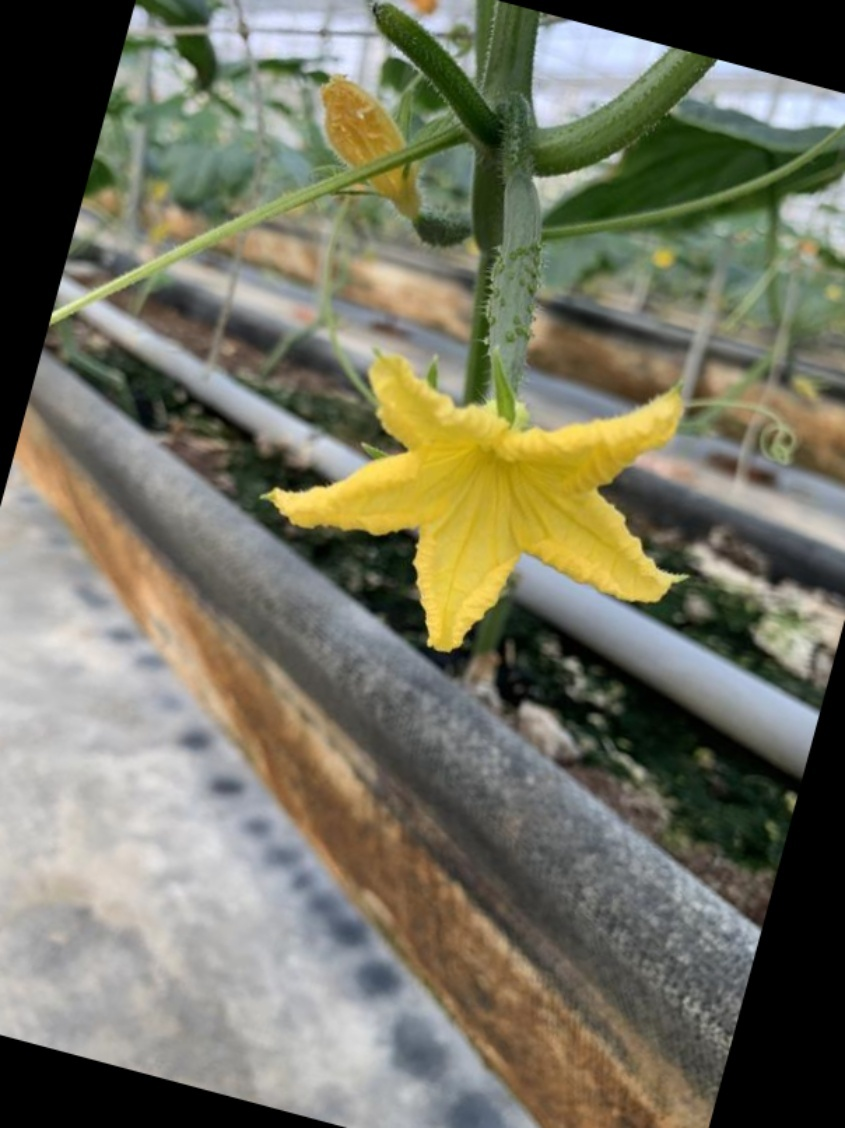flowering: (271, 137, 719, 671)
